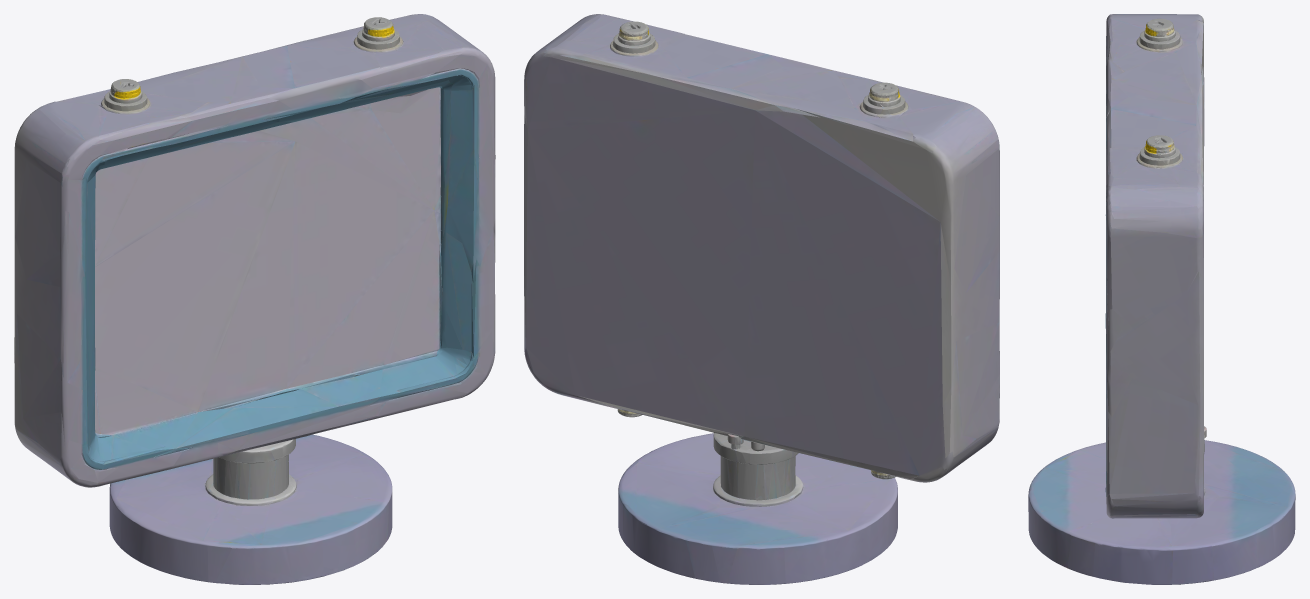
Rendered from sample-holder.gltf.
3 renders of one model, left to right at view 1: azimuth 30°, elevation 25°; view 2: azimuth 150°, elevation 25°; view 3: azimuth 270°, elevation 25°, orthographic. The views are drawn at different scales.
Bounding box in the file's own units: 1.83 × 1.9 × 1.03.
Materials: 1 (1 with a texture image).
